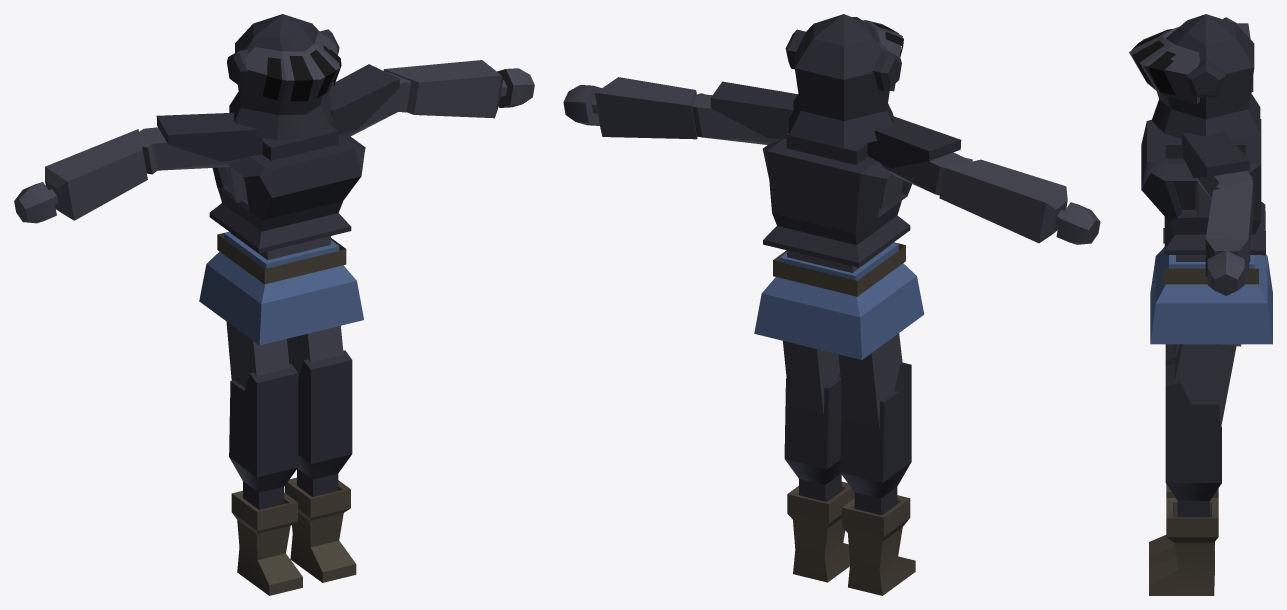
The model's file is T-Pose Player_Knight.fbx.
3 views of the same model, side by side, from view 1: azimuth 30°, elevation 25°; view 2: azimuth 150°, elevation 25°; view 3: azimuth 270°, elevation 25° (orthographic). The views are drawn at different scales.
Visible parts, largest first — view 1: Chest_Armour, Skirt, Lower_Leg1, Lower_Leg2, Helmet, Fore_Arm1, Fore_Arm2, Shoes, Shoes1, Sholder_Pad, Face_Plate, Sholder_Pad1 (+8 smaller); view 2: Chest_Armour, Skirt, Helmet, Lower_Leg1, Fore_Arm1, Fore_Arm2, Lower_Leg2, Shoes, Shoes1, Pant_Leg1, Sholder_Pad1, Sholder_Pad (+6 smaller); view 3: Skirt, Helmet, Chest_Armour, Lower_Leg2, Shoes1, Fore_Arm2, Pant_Leg2, Sholder_Pad1, Face_Plate, Hand1, Arm2, Ear_Piece2 (+6 smaller).
Boxes of the visible parts, x1=… form: Chest_Armour: x1=209, y1=125, x2=365, y2=253; Skirt: x1=199, y1=232, x2=363, y2=345; Lower_Leg1: x1=229, y1=363, x2=298, y2=509; Lower_Leg2: x1=297, y1=350, x2=352, y2=496; Helmet: x1=229, y1=14, x2=332, y2=140; Fore_Arm1: x1=45, y1=129, x2=147, y2=220; Fore_Arm2: x1=383, y1=60, x2=502, y2=118; Shoes: x1=231, y1=490, x2=302, y2=595; Shoes1: x1=285, y1=477, x2=356, y2=582; Sholder_Pad: x1=156, y1=112, x2=263, y2=162; Face_Plate: x1=241, y1=31, x2=339, y2=103; Sholder_Pad1: x1=328, y1=64, x2=399, y2=134; Chest_Armour: x1=762, y1=133, x2=911, y2=267; Skirt: x1=754, y1=243, x2=924, y2=359; Helmet: x1=789, y1=14, x2=894, y2=148; Lower_Leg1: x1=840, y1=362, x2=911, y2=515; Fore_Arm1: x1=939, y1=159, x2=1067, y2=243; Fore_Arm2: x1=595, y1=77, x2=697, y2=139; Lower_Leg2: x1=784, y1=372, x2=841, y2=501; Shoes: x1=842, y1=495, x2=915, y2=595; Shoes1: x1=787, y1=481, x2=854, y2=582; Pant_Leg1: x1=838, y1=333, x2=902, y2=427; Sholder_Pad1: x1=710, y1=81, x2=797, y2=138; Sholder_Pad: x1=867, y1=116, x2=961, y2=167; Skirt: x1=1150, y1=247, x2=1272, y2=344; Helmet: x1=1151, y1=14, x2=1260, y2=140; Chest_Armour: x1=1141, y1=119, x2=1265, y2=255; Lower_Leg2: x1=1165, y1=363, x2=1221, y2=517; Shoes1: x1=1149, y1=498, x2=1218, y2=595; Fore_Arm2: x1=1205, y1=179, x2=1253, y2=277; Pant_Leg2: x1=1174, y1=344, x2=1241, y2=427; Sholder_Pad1: x1=1182, y1=131, x2=1249, y2=177; Face_Plate: x1=1129, y1=26, x2=1199, y2=104; Hand1: x1=1207, y1=250, x2=1244, y2=295; Arm2: x1=1195, y1=171, x2=1252, y2=216; Ear_Piece2: x1=1186, y1=59, x2=1225, y2=97.
Bounding box in the file's own units: 2.08 × 2.14 × 0.4986.
